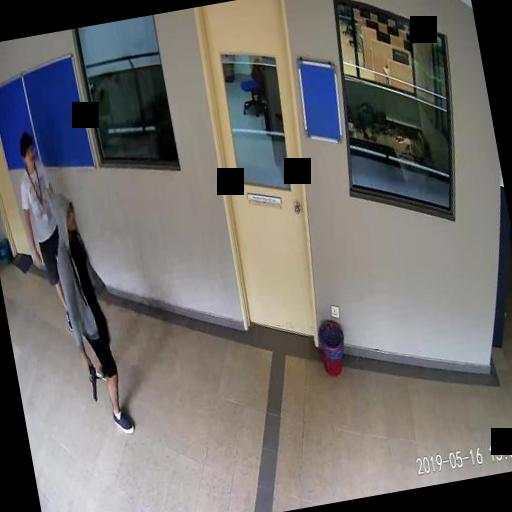Handgun: (82, 358, 98, 400)
